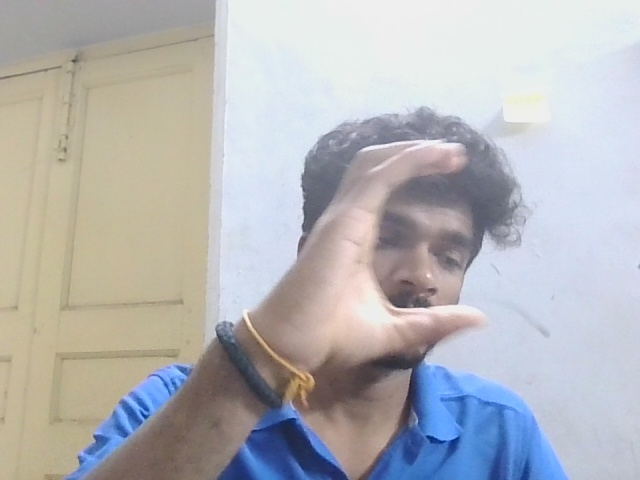No: (264, 129, 500, 382)
